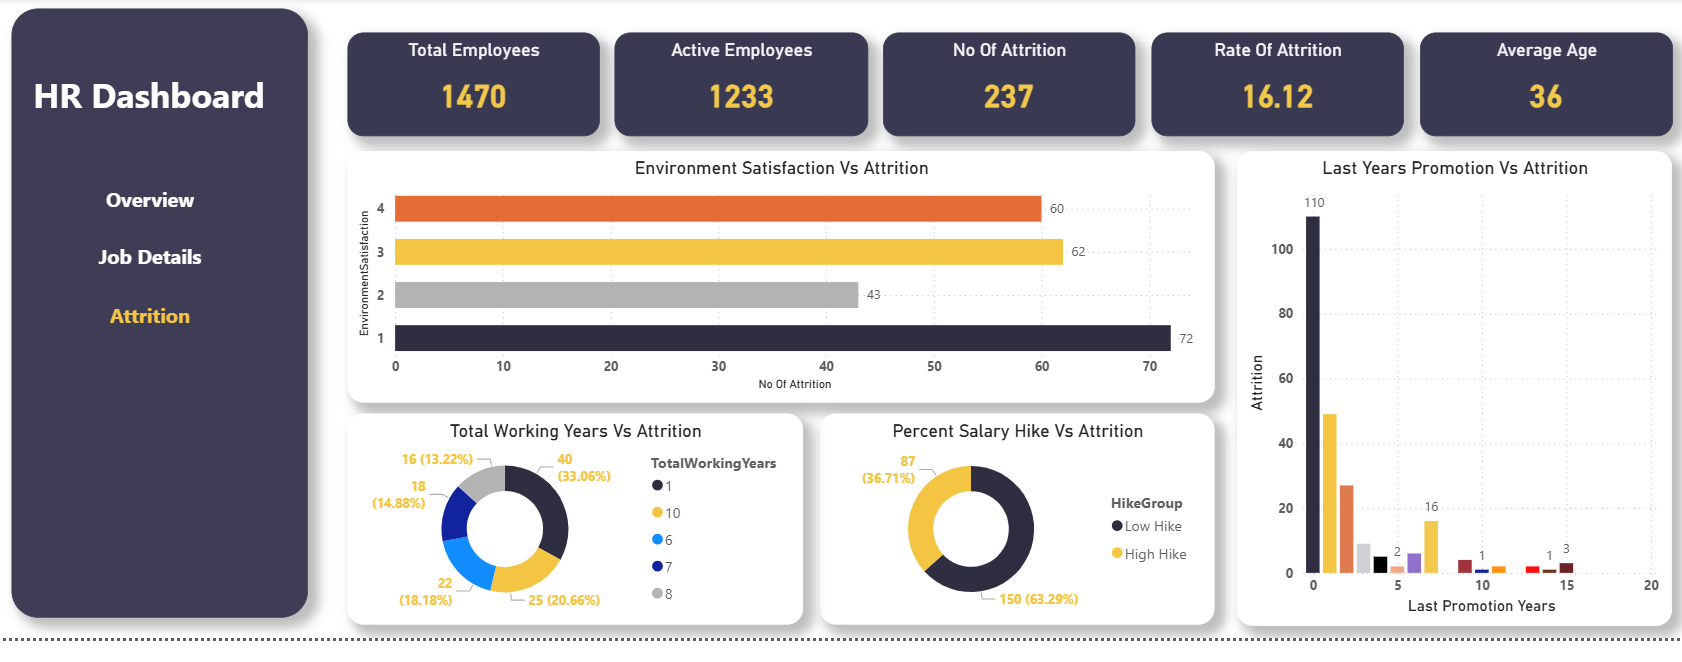

The page's visual inventory and layout, read from the dashboard file:
{"tool":"powerbi","page":{"name":"Promotion, Salary and Attrition","canvas":[1600,600],"ordinal":2},"visuals":[{"type":"card","title":"Total Employees","fields":{"Values":["Sum(overall_summary.Total_Employees)"]},"box":[347.9,32.4,236.3,97.1],"z":0},{"type":"card","title":"No Of Attrition","fields":{"Values":["Sum(overall_summary.Total_Attrition)"]},"box":[850.2,32.4,236.3,97.1],"z":1000},{"type":"card","title":"Rate Of Attrition","fields":{"Values":["Sum(overall_summary.Attrition_Rate_%)"]},"box":[1102,32.4,236.3,97.1],"z":2000},{"type":"card","title":"Active Employees","fields":{"Values":["Sum(Dept_summary.Stayed_Count)"]},"box":[598.3,32.4,237.8,97.1],"z":3000},{"type":"card","title":"Average Age","fields":{"Values":["Median(WA_Fn-UseC_-HR-Employee-Attrition.Age)"]},"box":[1352.7,33,237,97],"z":4000},{"type":"clusteredBarChart","title":"Environment Satisfaction Vs Attrition","fields":{"Category":["Env_satisfaction_wise.EnvironmentSatisfaction"],"Y":["Sum(Env_satisfaction_wise.Attrition_count)"]},"box":[348,143,813,236],"z":5000},{"type":"donutChart","title":"Percent Salary Hike Vs Attrition","fields":{"Category":["Percent_salary_hike_vs_attrition.HikeGroup"],"Y":["Sum(Percent_salary_hike_vs_attrition.Yes)"]},"box":[791,390,370,198],"z":6000},{"type":"donutChart","title":"Total Working Years Vs Attrition","fields":{"Category":["Total working years vs attrition.TotalWorkingYears"],"Y":["Sum(Total working years vs attrition.Attrition_count)"]},"box":[348,390,427,198],"z":7000},{"type":"clusteredColumnChart","title":"Last Years Promotion Vs Attrition","fields":{"Category":["year_since_last_promotion vs attrition.YearsSinceLastPromotion"],"Y":["Sum(year_since_last_promotion vs attrition.Attrition_count)"]},"box":[1182,143,408,445],"z":8000},{"type":"shape","box":[32.2,9.5,278.2,571.6],"z":9000},{"type":"actionButton","box":[47.3,160.9,229,54.9],"z":10000},{"type":"actionButton","box":[47.1,215.7,228.6,52.9],"z":11000},{"type":"actionButton","box":[47.1,264.3,228.6,64.3],"z":12000},{"type":"textbox","box":[47.1,62.9,238.6,67.1],"z":13000}]}

Visuals, with their boxes on the page's 1600x600 design canvas (x1, y1, x2, y2). These are canvas units, not pixel positions in the 1682x662 screenshot, which may show the page scaled, cropped or inside an application window:
"Total Employees" card: x1=348 y1=32 x2=584 y2=130
"No Of Attrition" card: x1=850 y1=32 x2=1086 y2=130
"Rate Of Attrition" card: x1=1102 y1=32 x2=1338 y2=130
"Active Employees" card: x1=598 y1=32 x2=836 y2=130
"Average Age" card: x1=1353 y1=33 x2=1590 y2=130
"Environment Satisfaction Vs Attrition" clusteredBarChart: x1=348 y1=143 x2=1161 y2=379
"Percent Salary Hike Vs Attrition" donutChart: x1=791 y1=390 x2=1161 y2=588
"Total Working Years Vs Attrition" donutChart: x1=348 y1=390 x2=775 y2=588
"Last Years Promotion Vs Attrition" clusteredColumnChart: x1=1182 y1=143 x2=1590 y2=588
shape: x1=32 y1=10 x2=310 y2=581
actionButton: x1=47 y1=161 x2=276 y2=216
actionButton: x1=47 y1=216 x2=276 y2=269
actionButton: x1=47 y1=264 x2=276 y2=329
textbox: x1=47 y1=63 x2=286 y2=130
